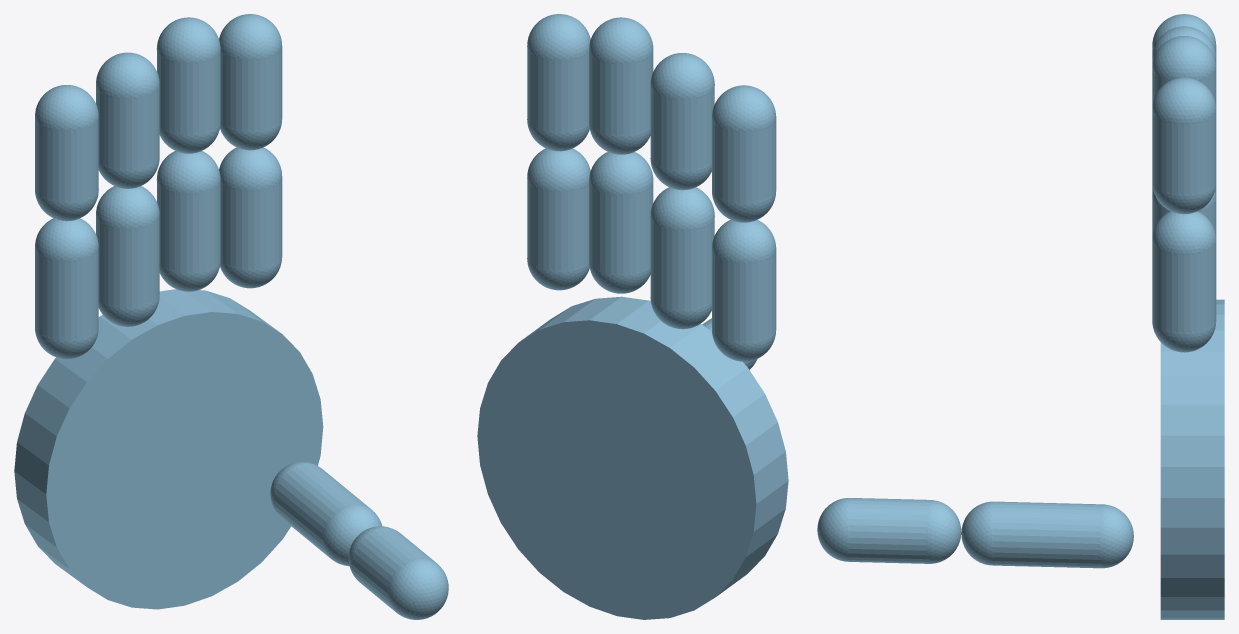
The model's file is gaia_hand_right_canonical.glb.
3 views of the same model, side by side, from view 1: azimuth 30°, elevation 25°; view 2: azimuth 150°, elevation 25°; view 3: azimuth 270°, elevation 25° (orthographic).
Parts seen in each view (by area): view 1: world; view 2: world; view 3: world.
Boxes of the visible parts, x1,y1,x2,y2 form: world: (14,14,448,619); world: (477,14,788,619); world: (817,14,1224,619).
Size of the model in its own units: 0.1 by 0.1976 by 0.1271.
